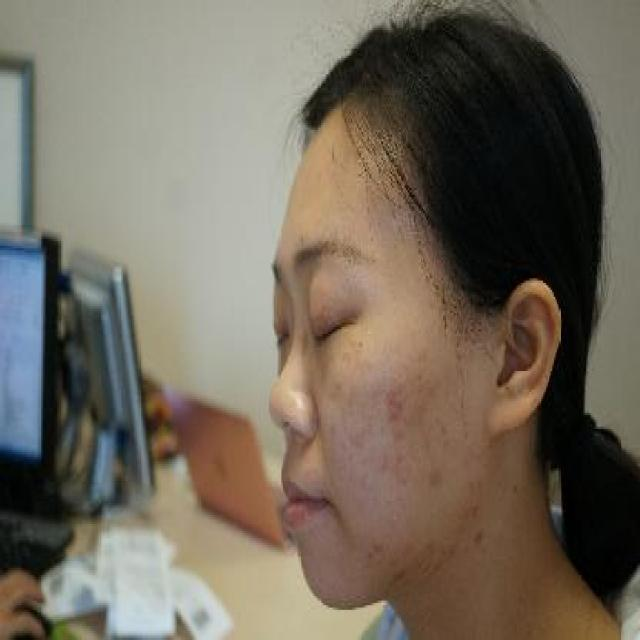dark spot: (377, 450, 414, 487), (423, 464, 445, 496), (371, 538, 383, 559)
nodules: (382, 387, 398, 408), (386, 408, 399, 427)
